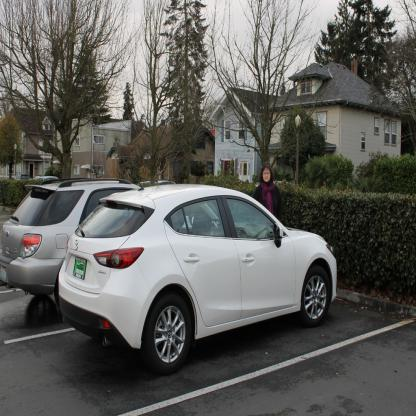Car: (0, 174, 338, 370)
